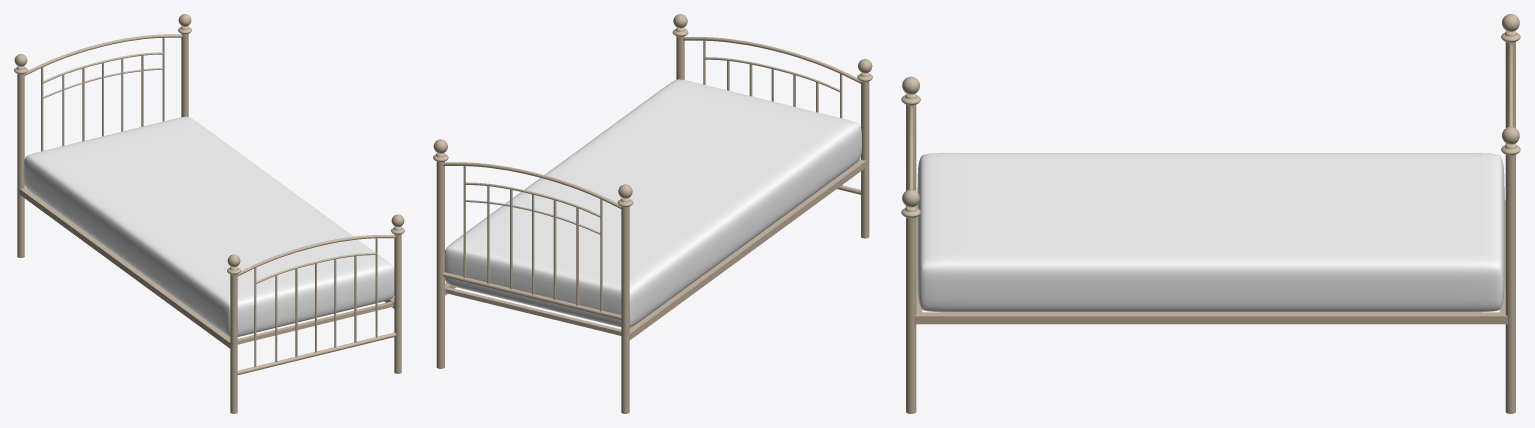
Rendered from 880_single_bed.glb.
The picture shows the model from 3 angles, left to right: view 1: azimuth 30°, elevation 25°; view 2: azimuth 150°, elevation 25°; view 3: azimuth 270°, elevation 25°; orthographic projection. The views are drawn at different scales.
Visible parts, largest first — view 1: matless, bed; view 2: matless, bed; view 3: matless, bed.
Boxes of the visible parts, bbox=[...] form: matless: bbox=[23, 116, 394, 336]; bed: bbox=[14, 14, 404, 413]; matless: bbox=[445, 79, 861, 327]; bed: bbox=[433, 14, 872, 413]; matless: bbox=[917, 153, 1504, 312]; bed: bbox=[901, 14, 1520, 413].
Bounding box in the file's own units: 0.9309 × 1.02 × 2.01.
